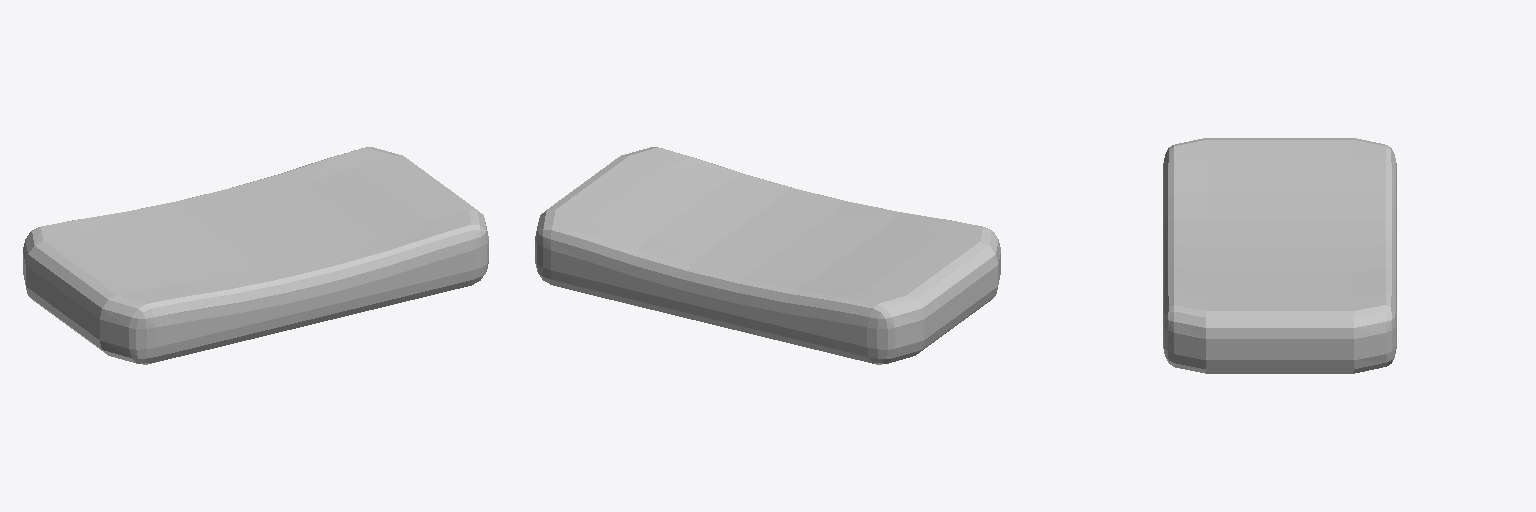
Rendered from Red Soft.obj.
The picture shows the model from 3 angles: view 1: azimuth 30°, elevation 25°; view 2: azimuth 150°, elevation 25°; view 3: azimuth 270°, elevation 25°; orthographic projection.
Visible parts, largest first — view 1: Red_Soft_Plane.022; view 2: Red_Soft_Plane.022; view 3: Red_Soft_Plane.022.
Boxes of the visible parts, x1=… form: Red_Soft_Plane.022: x1=23, y1=147, x2=488, y2=364; Red_Soft_Plane.022: x1=535, y1=147, x2=1000, y2=364; Red_Soft_Plane.022: x1=1163, y1=138, x2=1396, y2=373.
Size of the model in its own units: 0.3722 by 0.0561 by 0.1957.